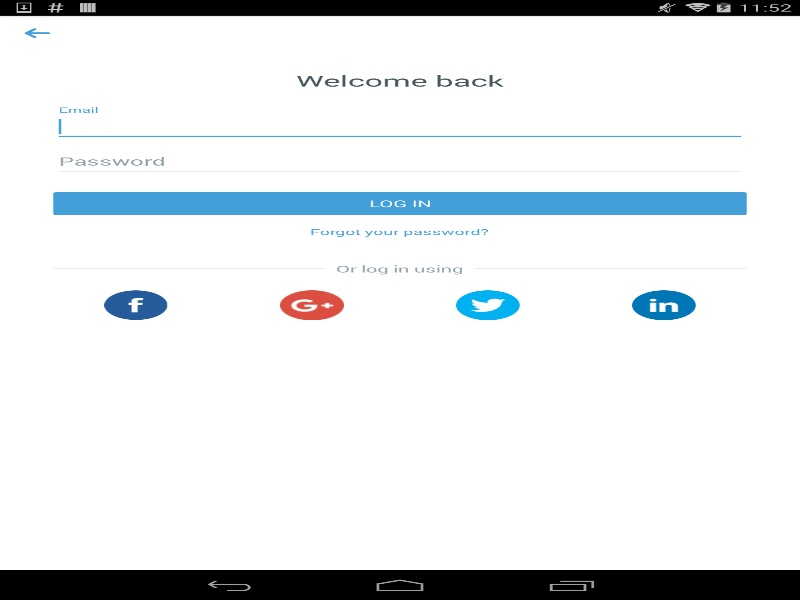Button: (53, 192, 746, 215)
Input: (53, 112, 746, 141), (53, 148, 746, 176)
